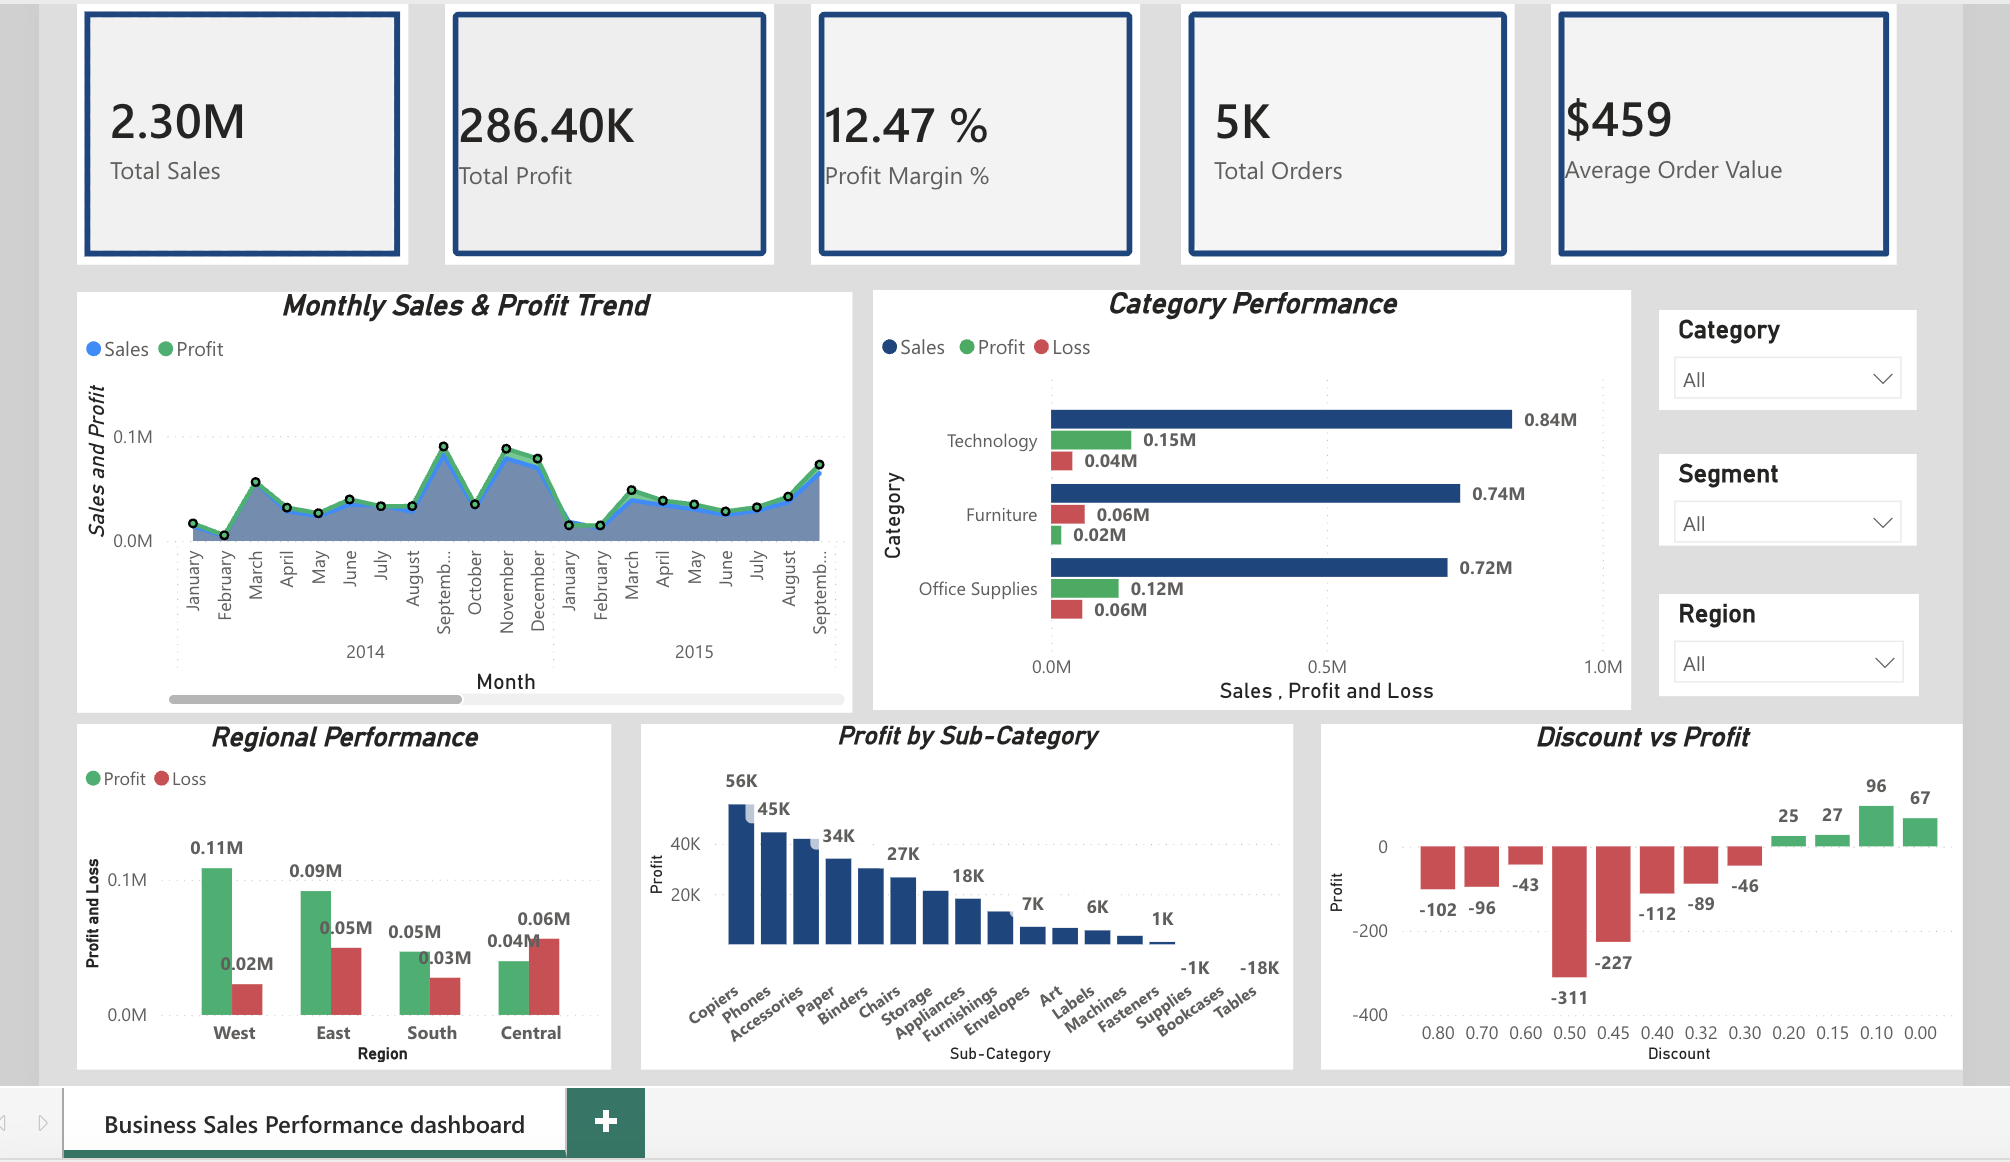

This screenshot's page, from the dashboard's own definition file:
{"tool":"powerbi","page":{"name":"Business Sales Performance dashboard","canvas":[1280,720],"ordinal":0},"visuals":[{"type":"cardVisual","title":"Total Sales","fields":{"Data":["Sample - Superstore 1.Total Sales"]},"box":[25,0,220.6,173.7],"z":0},{"type":"cardVisual","fields":{"Data":["Sum(Sample - Superstore 1.Profit)"]},"box":[270.7,0,219.1,173.7],"z":1000},{"type":"cardVisual","fields":{"Data":["Sample - Superstore 1.Total Orders"]},"box":[760.5,0,222.2,173.7],"z":2000},{"type":"cardVisual","fields":{"Data":["Sample - Superstore 1.Average Order Value"]},"box":[1006.2,0,230,173.7],"z":3000},{"type":"stackedAreaChart","title":"Monthly Sales & Profit Trend","fields":{"Category":["Sample - Superstore 1.Month Start.Variation.Date Hierarchy.Year","Sample - Superstore 1.Month Start.Variation.Date Hierarchy.Quarter","Sample - Superstore 1.Month Start.Variation.Date Hierarchy.Month","Sample - Superstore 1.Month Start.Variation.Date Hierarchy.Day"],"Y":["Sum(Sample - Superstore 1.Sales)","Sample - Superstore 1.Total Profit"]},"box":[25.3,191.4,515.8,280],"z":4000},{"type":"slicer","fields":{"Values":["Sample - Superstore 1.Region"]},"box":[1078,392.6,173,67.9],"z":5000},{"type":"slicer","fields":{"Values":["Sample - Superstore 1.Category"]},"box":[1078,203.6,171.7,66.5],"z":6000},{"type":"slicer","fields":{"Values":["Sample - Superstore 1.Segment"]},"box":[1078,299.4,171.7,61.2],"z":7000},{"type":"cardVisual","fields":{"Data":["Sample - Superstore 1.Profit Margin %"]},"box":[513.3,0,219.1,173.7],"z":8000},{"type":"clusteredBarChart","title":"Sales vs Profit by Category","fields":{"Category":["Sample - Superstore 1.Category"],"Y":["Sample - Superstore 1.Total Sales","Sample - Superstore 1.Total Profit","Sample - Superstore 1.Total Loss"]},"box":[555,190.3,504.4,279.5],"z":9000},{"type":"lineClusteredColumnComboChart","title":"Regional Performance","fields":{"Category":["Sample - Superstore 1.Region"],"Y":["Sample - Superstore 1.Total Profit","Sample - Superstore 1.Total Loss"]},"box":[25.3,479.1,355.3,230.2],"z":10000},{"type":"lineClusteredColumnComboChart","fields":{"Category":["Sample - Superstore 1.Sub-Category"],"Y":["Sample - Superstore 1.Total Profit"]},"box":[400.6,479.1,433.9,230.2],"z":11000},{"type":"clusteredColumnChart","title":"Discount vs Profit","fields":{"Category":["Sample - Superstore 1.Discount Band"],"Y":["Sample - Superstore 1.Average Profit"]},"box":[853.1,479.1,427.2,230.2],"z":12000}]}

Visuals, with their boxes on the page's 1280x720 design canvas (x1, y1, x2, y2). These are canvas units, not pixel positions in the 2010x1162 screenshot, which may show the page scaled, cropped or inside an application window:
"Total Sales" cardVisual: x1=25, y1=0, x2=246, y2=174
cardVisual - Sum(Sample - Superstore 1.Profit): x1=271, y1=0, x2=490, y2=174
cardVisual - Sample - Superstore 1.Total Orders: x1=760, y1=0, x2=983, y2=174
cardVisual - Sample - Superstore 1.Average Order Value: x1=1006, y1=0, x2=1236, y2=174
"Monthly Sales & Profit Trend" stackedAreaChart: x1=25, y1=191, x2=541, y2=471
slicer - Sample - Superstore 1.Region: x1=1078, y1=393, x2=1251, y2=460
slicer - Sample - Superstore 1.Category: x1=1078, y1=204, x2=1250, y2=270
slicer - Sample - Superstore 1.Segment: x1=1078, y1=299, x2=1250, y2=361
cardVisual - Sample - Superstore 1.Profit Margin %: x1=513, y1=0, x2=732, y2=174
"Sales vs Profit by Category" clusteredBarChart: x1=555, y1=190, x2=1059, y2=470
"Regional Performance" lineClusteredColumnComboChart: x1=25, y1=479, x2=381, y2=709
lineClusteredColumnComboChart - Sample - Superstore 1.Sub-Category x Sample - Superstore 1.Total Profit: x1=401, y1=479, x2=834, y2=709
"Discount vs Profit" clusteredColumnChart: x1=853, y1=479, x2=1280, y2=709
